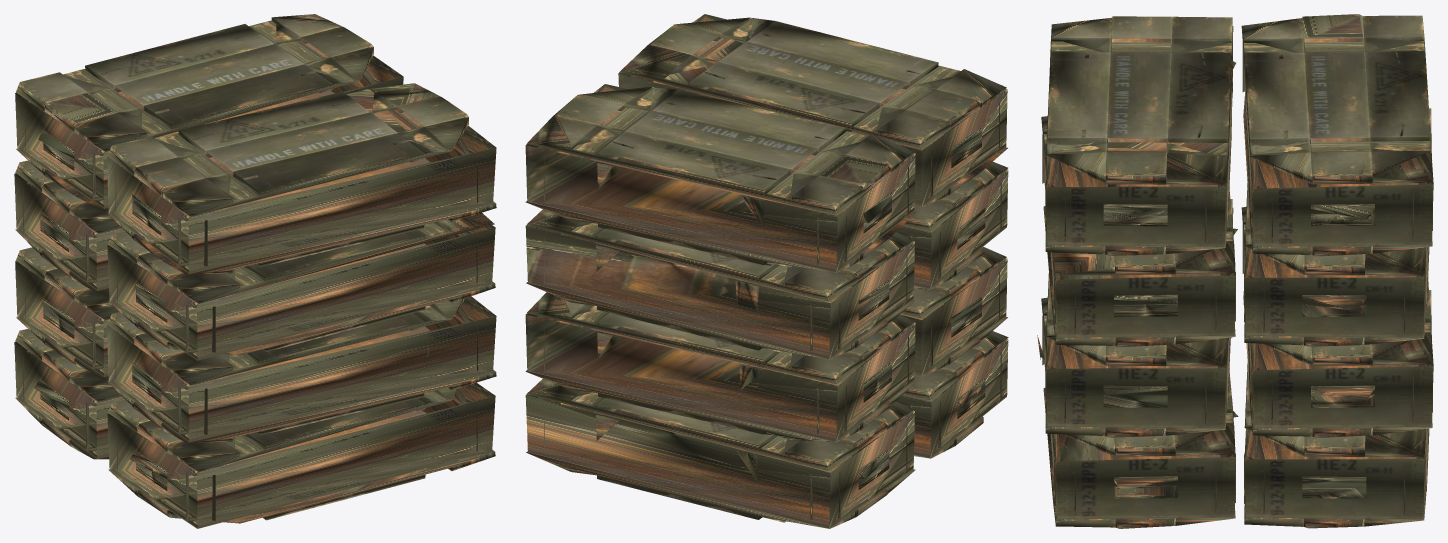
Rendered from crate-mil.glb.
The picture shows the model from 3 angles, left to right: view 1: azimuth 30°, elevation 25°; view 2: azimuth 150°, elevation 25°; view 3: azimuth 270°, elevation 25°; orthographic projection. The views are drawn at different scales.
Visible parts, largest first — view 1: old_military_crate_lid_a; view 2: old_military_crate_lid_a; view 3: old_military_crate_lid_a.
Part boxes in pixels (x1,y1,x2,y2): old_military_crate_lid_a: [14, 14, 496, 528]; old_military_crate_lid_a: [525, 14, 1008, 528]; old_military_crate_lid_a: [1037, 14, 1433, 528].
Bounding box in the file's own units: 1.09 × 1.07 × 1.09.
Materials: 1 (1 with a texture image).
